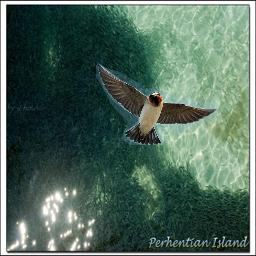Swallow: (96, 62, 217, 145)
